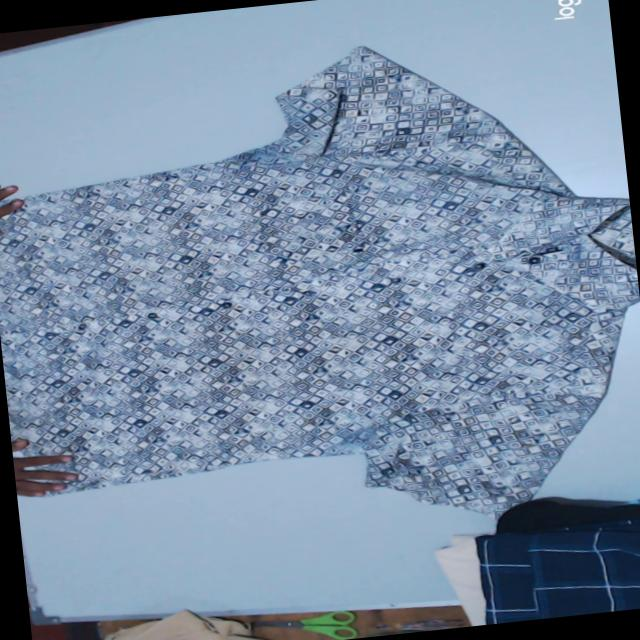new-garment: (0, 46, 639, 517)
